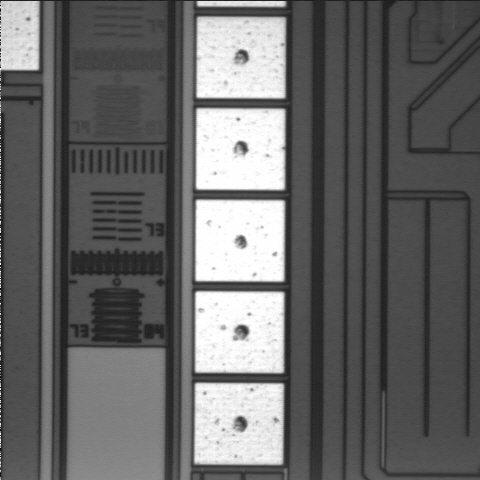pad: (195, 200, 285, 282), (194, 383, 284, 465), (196, 108, 285, 190), (195, 291, 284, 373), (197, 17, 285, 98)
